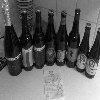beer: (18, 9, 38, 74)
